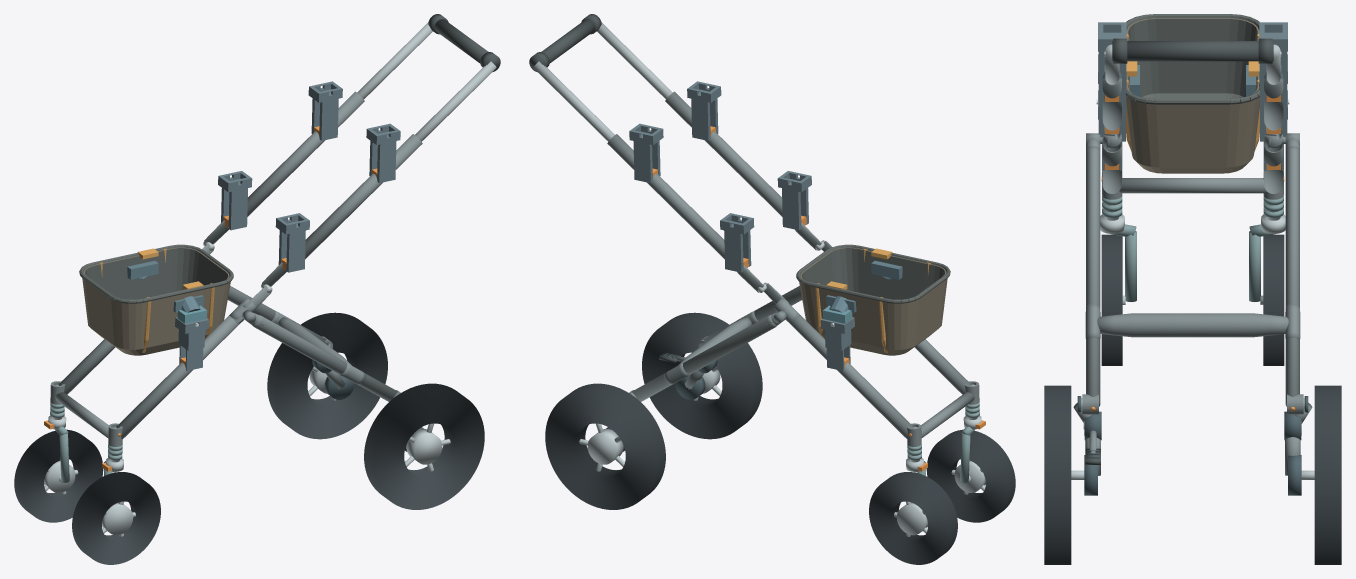
Rendered from S15_w380_state1_wheel_M.glb.
3 views of the same model, side by side, from view 1: azimuth 30°, elevation 25°; view 2: azimuth 150°, elevation 25°; view 3: azimuth 270°, elevation 25° (orthographic). The views are drawn at different scales.
Visible parts, largest first — view 1: S15_Cabin, RL_tire.009, RR_tire.009, FL_tire.009, FR_tire.009, main_lower_-1, V46_rear_leg_-1.002, main_upper_1, main_upper_-1, Universal_Cabin_Receiver_M_1, Universal_Cabin_Receiver_H_-1, Universal_Cabin_Receiver_H_1 (+12 smaller); view 2: S15_Cabin, RR_tire.009, RL_tire.009, FR_tire.009, FL_tire.009, main_lower_1, V46_rear_leg_1.002, main_upper_-1, main_upper_1, Universal_Cabin_Receiver_M_-1, Universal_Cabin_Receiver_M_1, Universal_Cabin_Receiver_H_1 (+12 smaller); view 3: S15_Cabin, RL_tire.009, RR_tire.009, V46_rearbar.002, V46_rear_leg_1.002, V46_rear_leg_-1.002, round_handle.010, FL_tire.009, FR_tire.009, front_fixed_round_tube, Universal_Cabin_Receiver_H_1, Universal_Cabin_Receiver_H_-1 (+21 smaller).
Part boxes in pixels (x1,y1,x2,y2): S15_Cabin: (79, 244, 233, 355); RL_tire.009: (364, 383, 484, 509); RR_tire.009: (267, 312, 387, 439); FL_tire.009: (72, 472, 160, 564); FR_tire.009: (14, 429, 103, 522); main_lower_-1: (116, 315, 242, 439); V46_rear_leg_-1.002: (252, 314, 397, 401); main_upper_1: (247, 91, 364, 216); main_upper_-1: (305, 134, 422, 259); Universal_Cabin_Receiver_M_1: (218, 171, 252, 230); Universal_Cabin_Receiver_H_-1: (366, 123, 400, 183); Universal_Cabin_Receiver_H_1: (308, 81, 342, 140); S15_Cabin: (796, 244, 950, 355); RR_tire.009: (545, 383, 665, 509); RL_tire.009: (642, 312, 762, 439); FR_tire.009: (869, 472, 957, 564); FL_tire.009: (926, 429, 1015, 522); main_lower_1: (787, 315, 913, 439); V46_rear_leg_1.002: (632, 314, 777, 401); main_upper_-1: (665, 91, 782, 216); main_upper_1: (607, 134, 724, 259); Universal_Cabin_Receiver_M_-1: (777, 171, 811, 230); Universal_Cabin_Receiver_M_1: (720, 213, 754, 272); Universal_Cabin_Receiver_H_1: (629, 123, 663, 183); S15_Cabin: (1126, 14, 1259, 173); RL_tire.009: (1044, 385, 1071, 564); RR_tire.009: (1314, 385, 1341, 564); V46_rearbar.002: (1097, 313, 1288, 337); V46_rear_leg_1.002: (1285, 146, 1299, 406); V46_rear_leg_-1.002: (1086, 146, 1100, 406); round_handle.010: (1112, 41, 1273, 61); FL_tire.009: (1101, 234, 1122, 365); FR_tire.009: (1263, 234, 1284, 365); front_fixed_round_tube: (1119, 178, 1266, 193); Universal_Cabin_Receiver_H_1: (1259, 22, 1287, 102); Universal_Cabin_Receiver_H_-1: (1098, 22, 1126, 102).
Bounding box in the file's own units: 1.15 × 1.06 × 0.4971.
